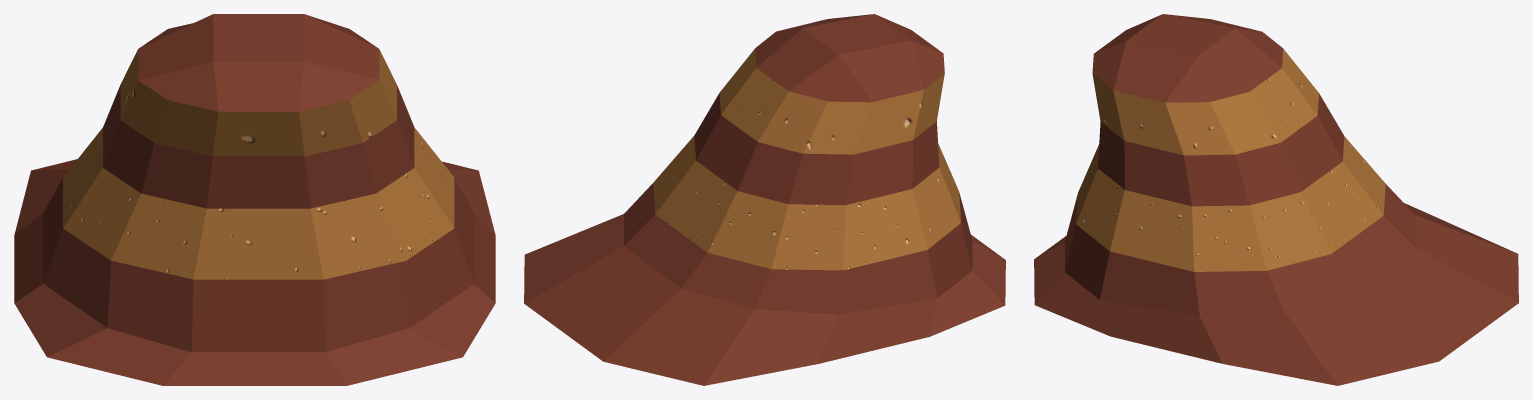
File: Mountain_03_240419.fbx
3 renders of one model, left to right at view 1: azimuth 30°, elevation 25°; view 2: azimuth 150°, elevation 25°; view 3: azimuth 270°, elevation 25°, orthographic. The views are drawn at different scales.
Visible parts, largest first — view 1: Mountein_03; view 2: Mountein_03; view 3: Mountein_03.
Boxes of the visible parts, bbox=[...] form: Mountein_03: bbox=[14, 14, 495, 385]; Mountein_03: bbox=[524, 14, 1005, 385]; Mountein_03: bbox=[1034, 14, 1518, 385].
Bounding box in the file's own units: 2322 × 1218 × 2345.
